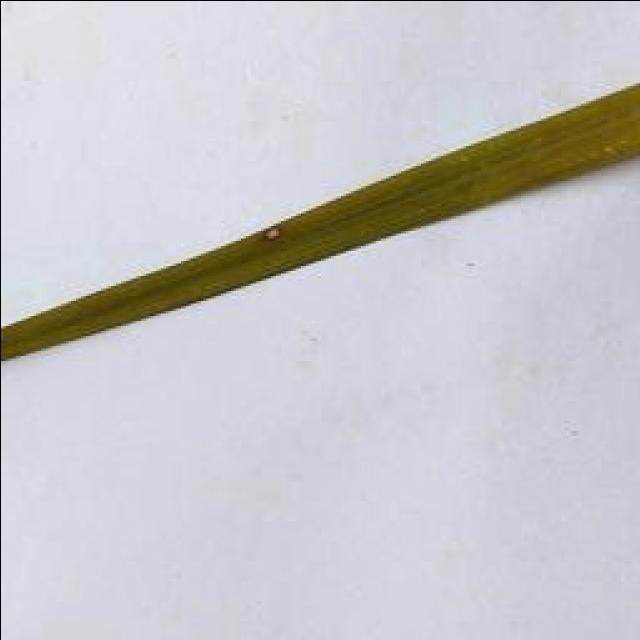Unhealthy: (261, 225, 280, 241)
